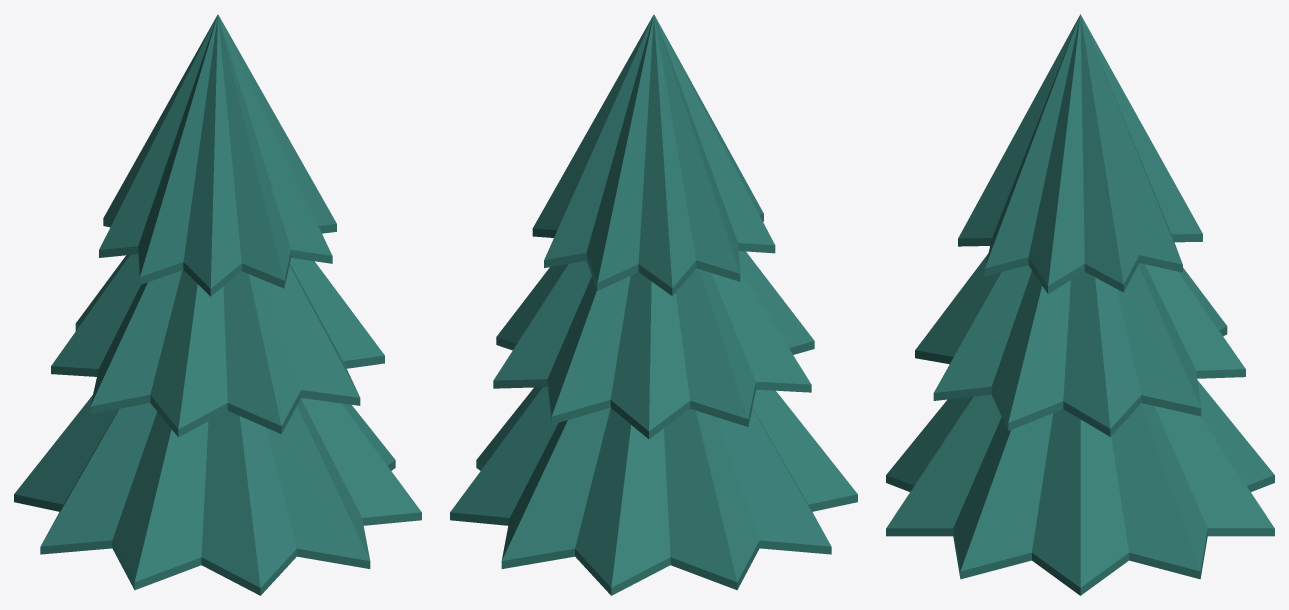
The picture shows the model from 3 angles, left to right: view 1: azimuth 30°, elevation 25°; view 2: azimuth 150°, elevation 25°; view 3: azimuth 270°, elevation 25°; orthographic projection.
Visible parts, largest first — view 1: 三层折叶树冠_5.001; view 2: 三层折叶树冠_5.001; view 3: 三层折叶树冠_5.001.
Boxes of the visible parts, x1,y1,x2,y2 form: 三层折叶树冠_5.001: (14, 14, 421, 595); 三层折叶树冠_5.001: (450, 14, 857, 595); 三层折叶树冠_5.001: (886, 14, 1274, 595).
Bounding box in the file's own units: 0.372 × 0.4978 × 0.3538.
